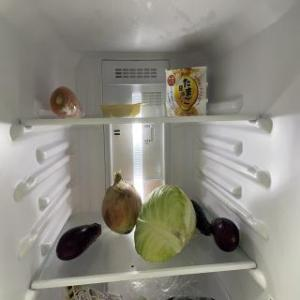cabbage: (134, 184, 196, 258)
carrot: (51, 87, 85, 119)
eggplant: (56, 222, 102, 262), (211, 216, 241, 254), (191, 202, 213, 238)
onion: (102, 172, 146, 234)
